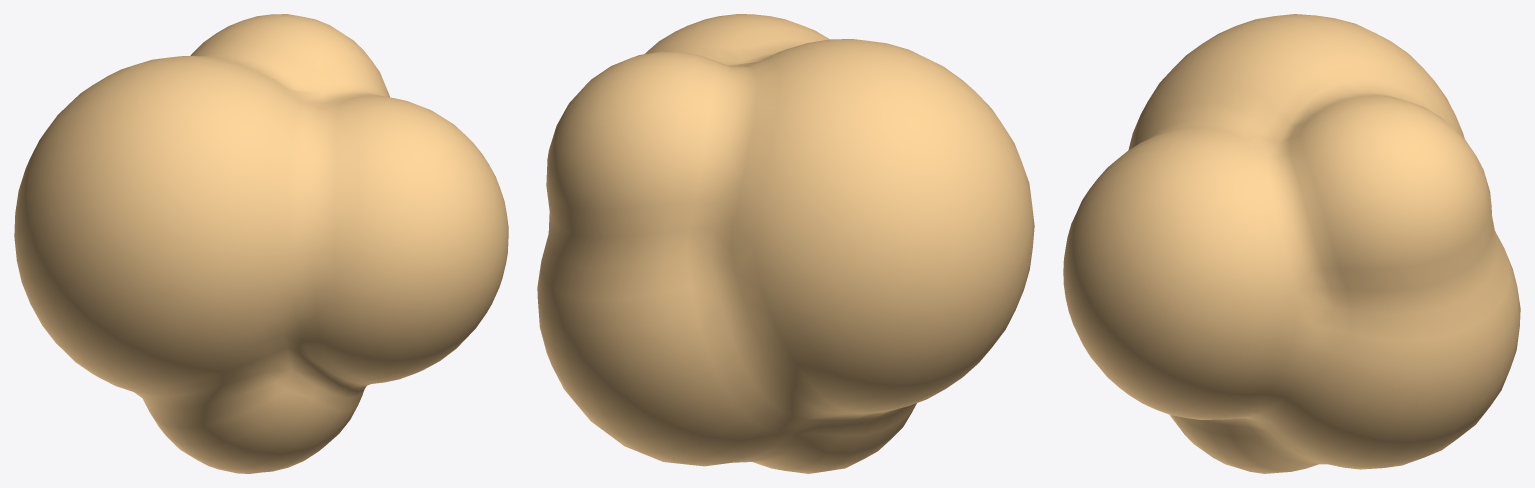
File: SM_Ponpon_Cauliflower_Piece.fbx
The picture shows the model from 3 angles, left to right: view 1: azimuth 30°, elevation 25°; view 2: azimuth 150°, elevation 25°; view 3: azimuth 270°, elevation 25°; orthographic projection. The views are drawn at different scales.
Parts seen in each view (by area): view 1: SM_Ponpon_Cauliflower_Piece; view 2: SM_Ponpon_Cauliflower_Piece; view 3: SM_Ponpon_Cauliflower_Piece.
Boxes of the visible parts, box(x1,y1,x2,y2) form: SM_Ponpon_Cauliflower_Piece: box(14, 14, 508, 473); SM_Ponpon_Cauliflower_Piece: box(537, 14, 1034, 473); SM_Ponpon_Cauliflower_Piece: box(1063, 14, 1520, 473).
Bounding box in the file's own units: 0.688 × 0.6364 × 0.6486.
